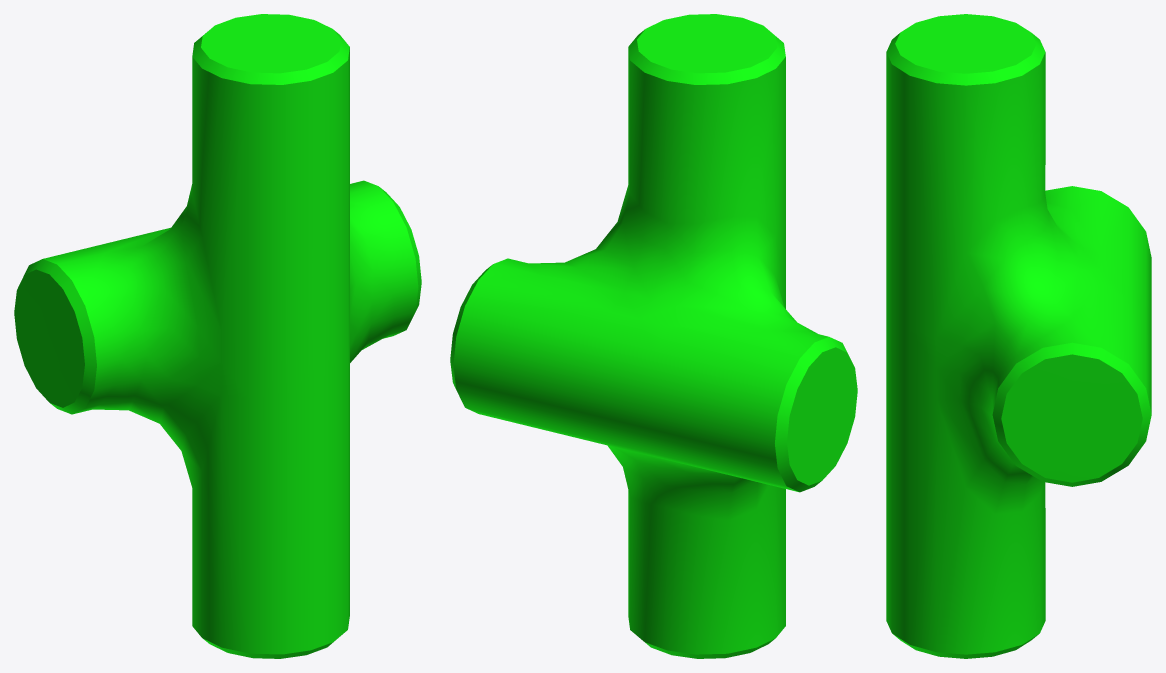
Rendered from AnklePitchLink.obj.
3 views of the same model, side by side, from view 1: azimuth 30°, elevation 25°; view 2: azimuth 150°, elevation 25°; view 3: azimuth 270°, elevation 25° (orthographic).
Parts seen in each view (by area): view 1: AnklePitchLink_Retopo; view 2: AnklePitchLink_Retopo; view 3: AnklePitchLink_Retopo.
Boxes of the visible parts, <box> form: AnklePitchLink_Retopo: <box>14,14,421,658</box>; AnklePitchLink_Retopo: <box>450,14,857,658</box>; AnklePitchLink_Retopo: <box>886,14,1151,658</box>.
Bounding box in the file's own units: 0.0439 × 0.073 × 0.03.
